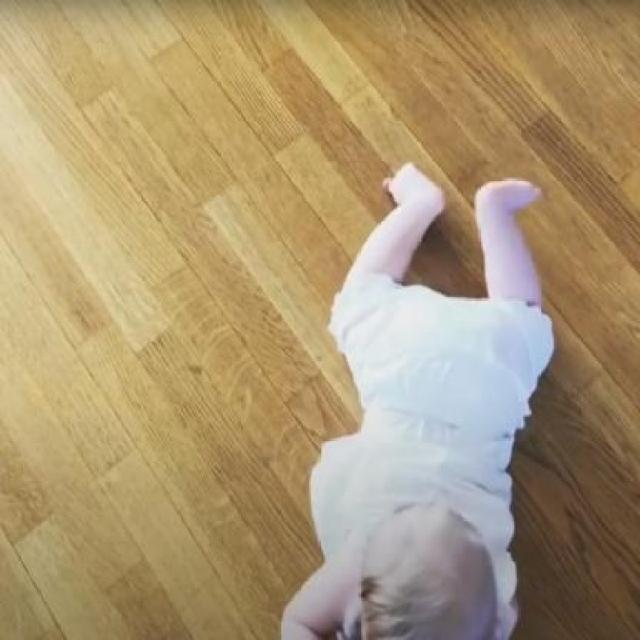baby: (278, 158, 554, 638)
